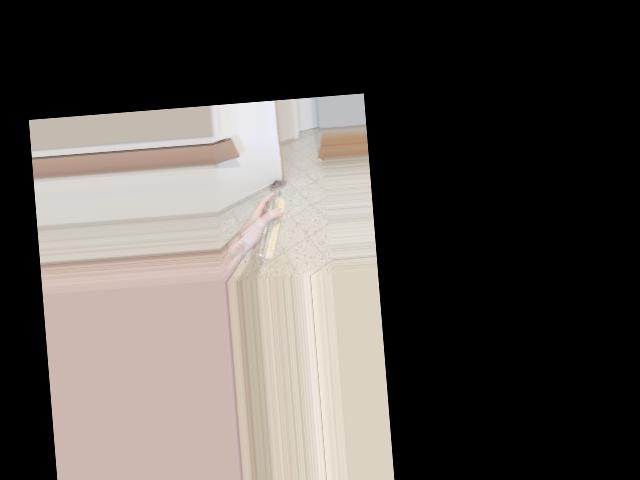cheese: (235, 186, 297, 255)
